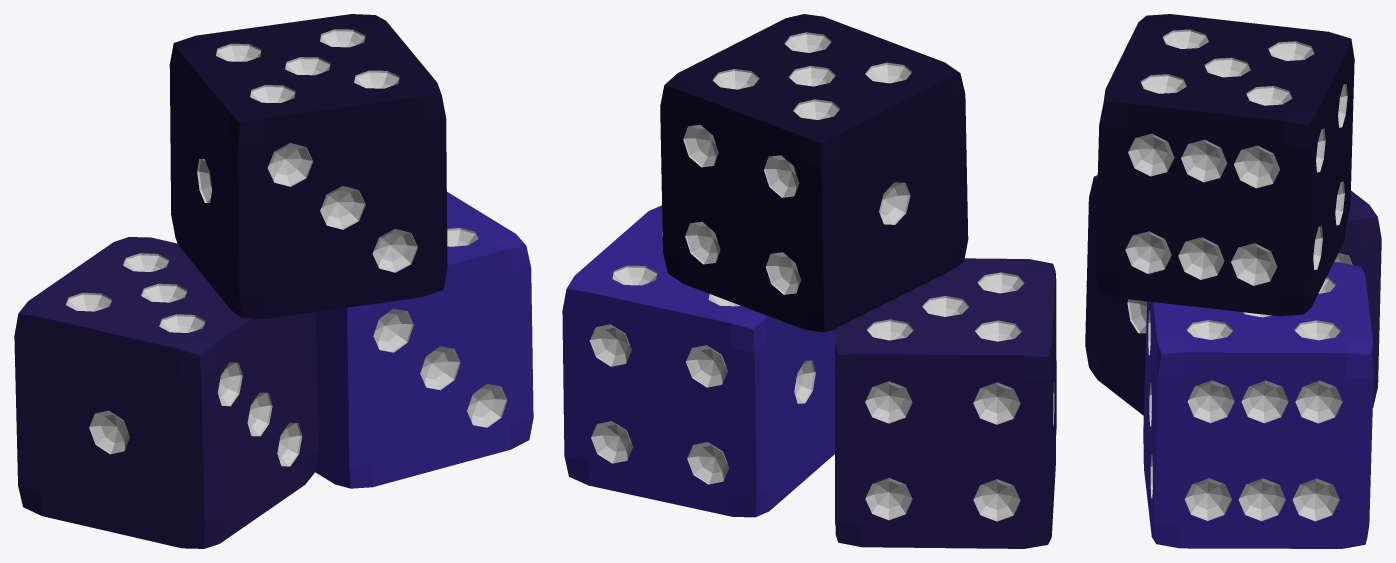
The model's file is des.FBX.
3 views of the same model, side by side, from view 1: azimuth 30°, elevation 25°; view 2: azimuth 150°, elevation 25°; view 3: azimuth 270°, elevation 25° (orthographic).
Visible parts, largest first — view 1: DICE; view 2: DICE; view 3: DICE.
Boxes of the visible parts, x1,y1,x2,y2 form: DICE: [14, 14, 533, 548]; DICE: [562, 14, 1056, 548]; DICE: [1085, 14, 1381, 548].
Bounding box in the file's own units: 128 × 73.28 × 108.
